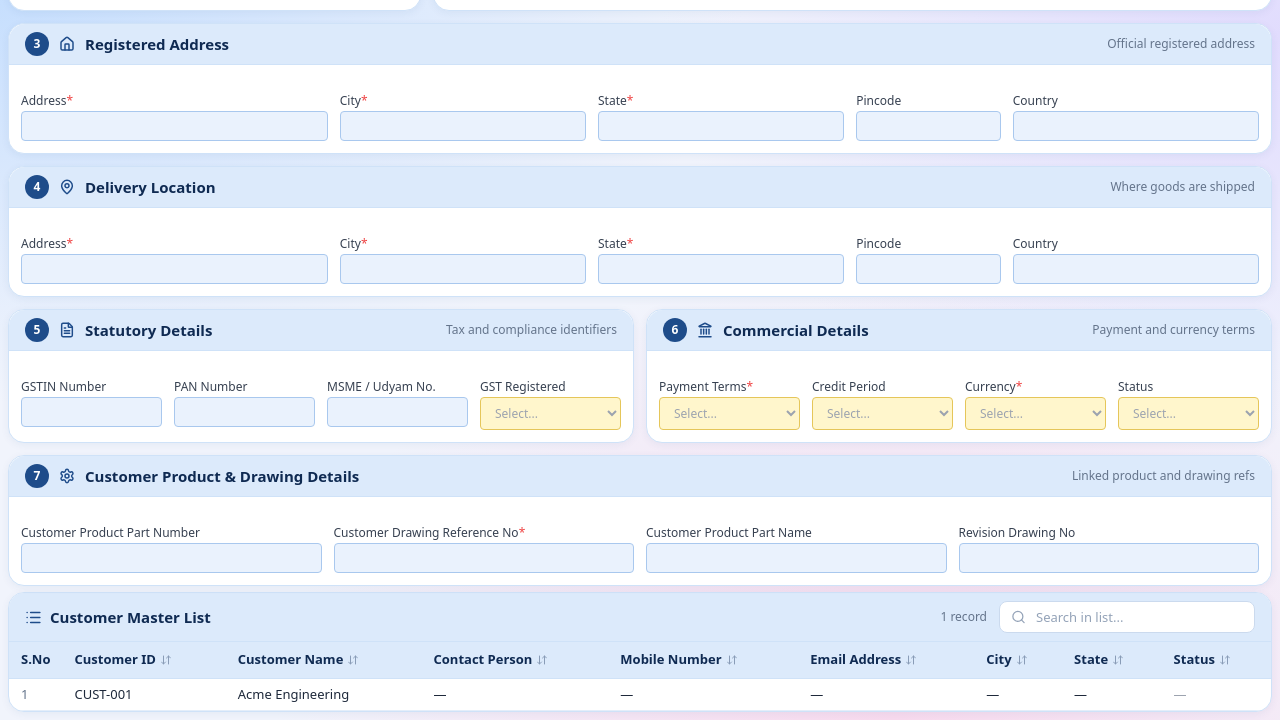
it: Customer Master delete › Delete removes the record once and closes
The image size is (1280, 720).
(page scrolled)
Click the text "CUST-001" at point(104, 694), box [62,678,226,710]
(page scrolled)
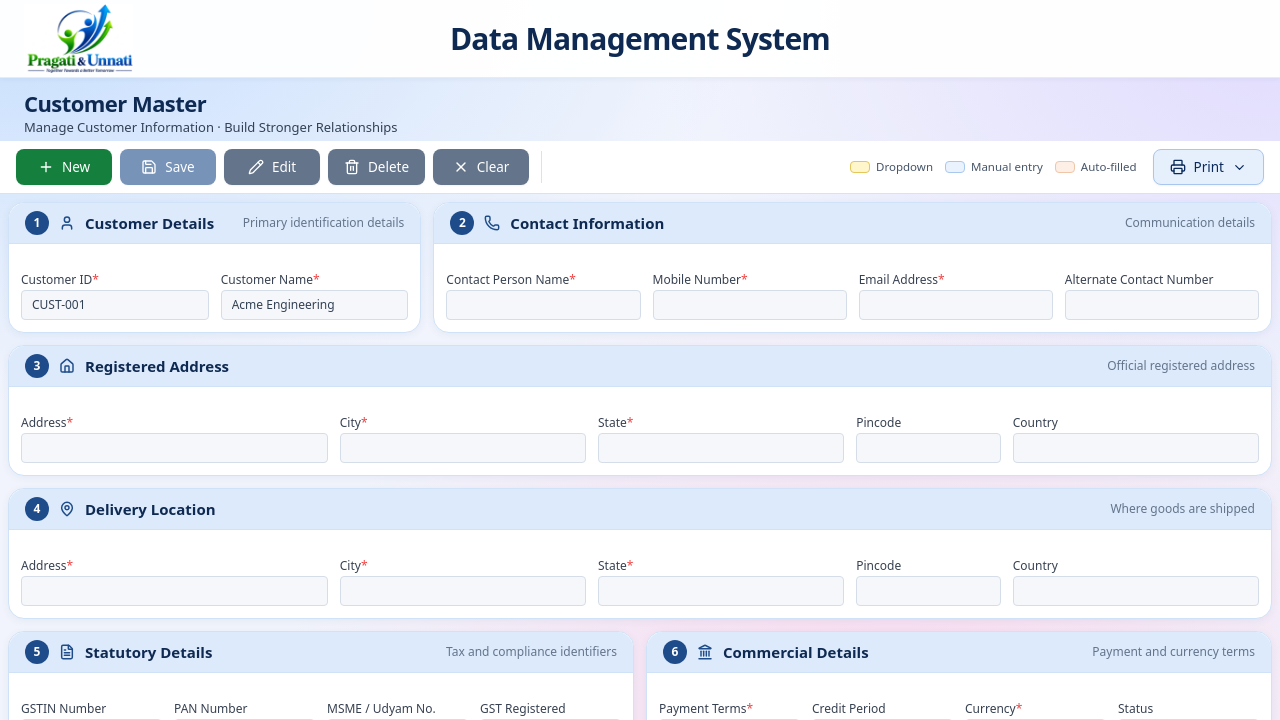
Click the button "Delete" at point(377, 167), box [328,149,425,185]
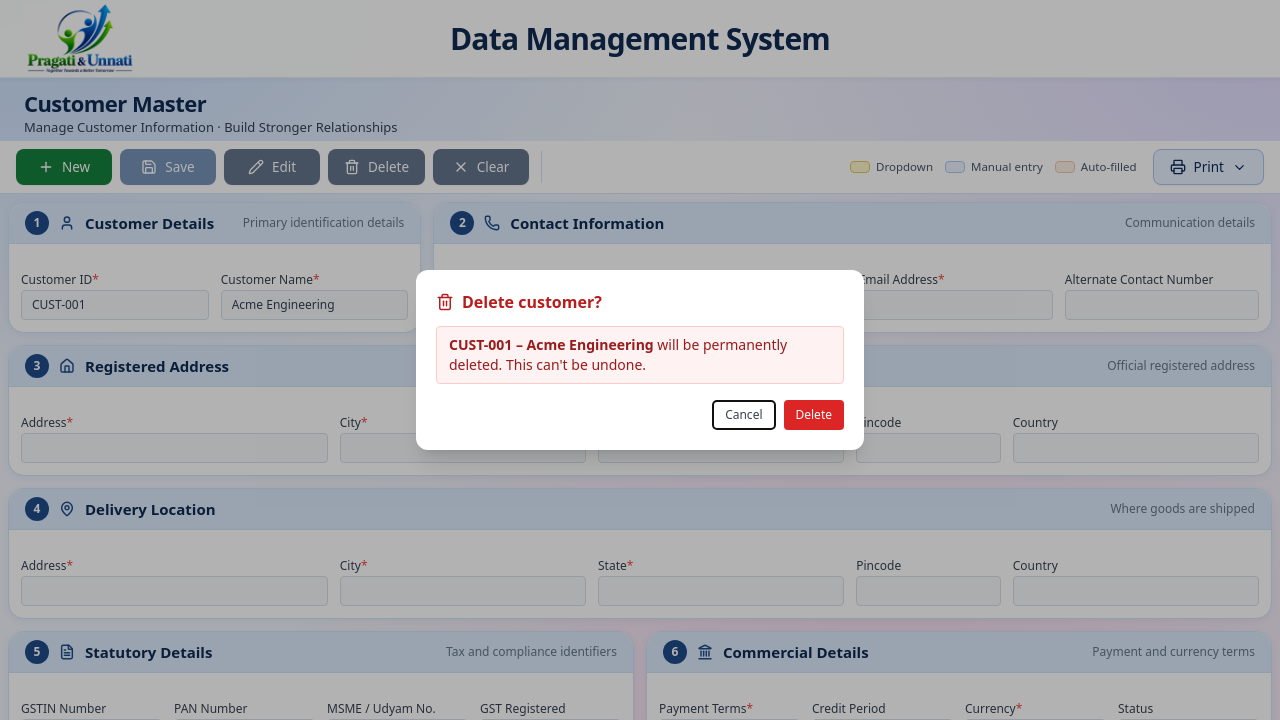
Click the button "Delete" at point(814, 415), box [784,400,844,430]
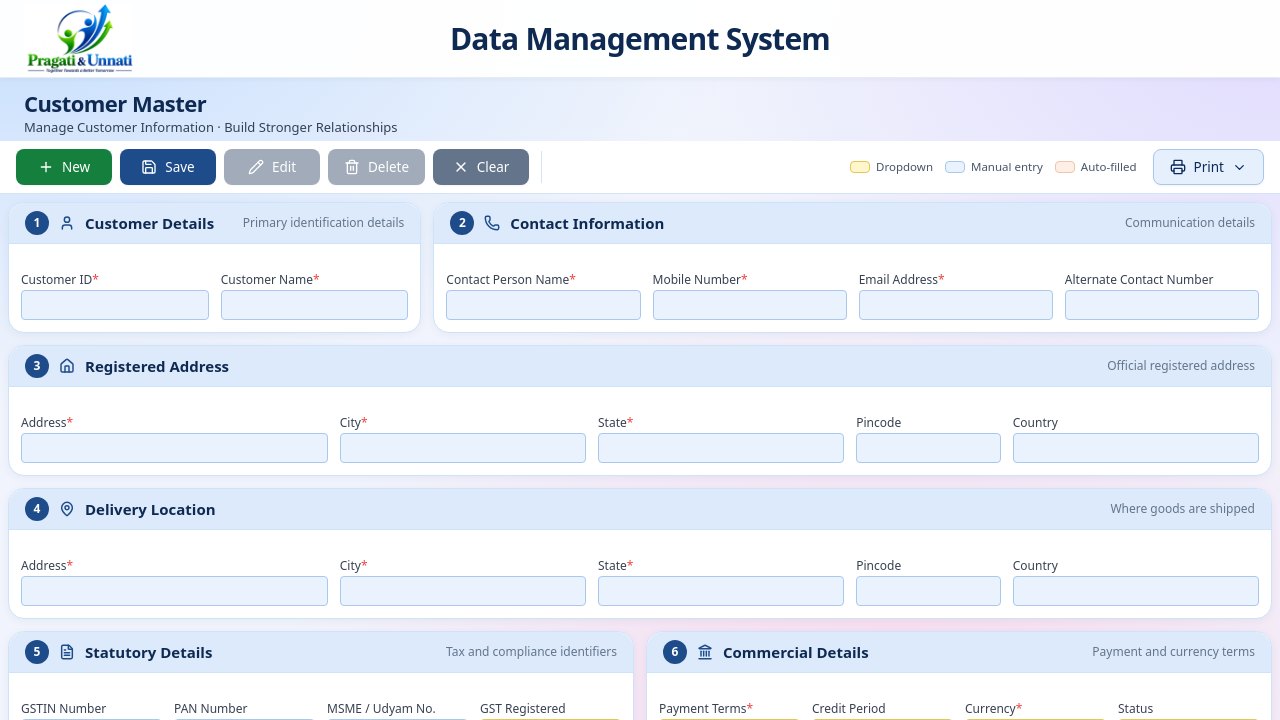
Expected: the dialog is gone
